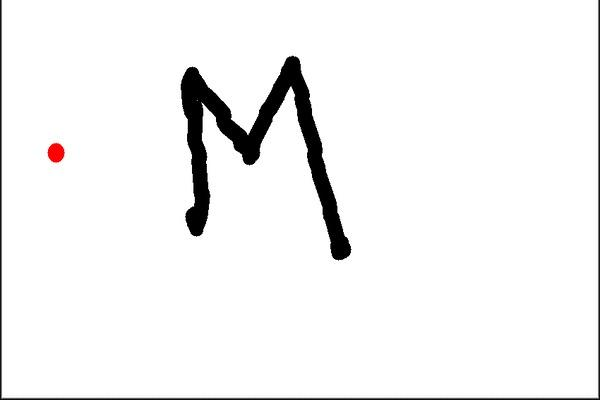M: (171, 51, 357, 264)
